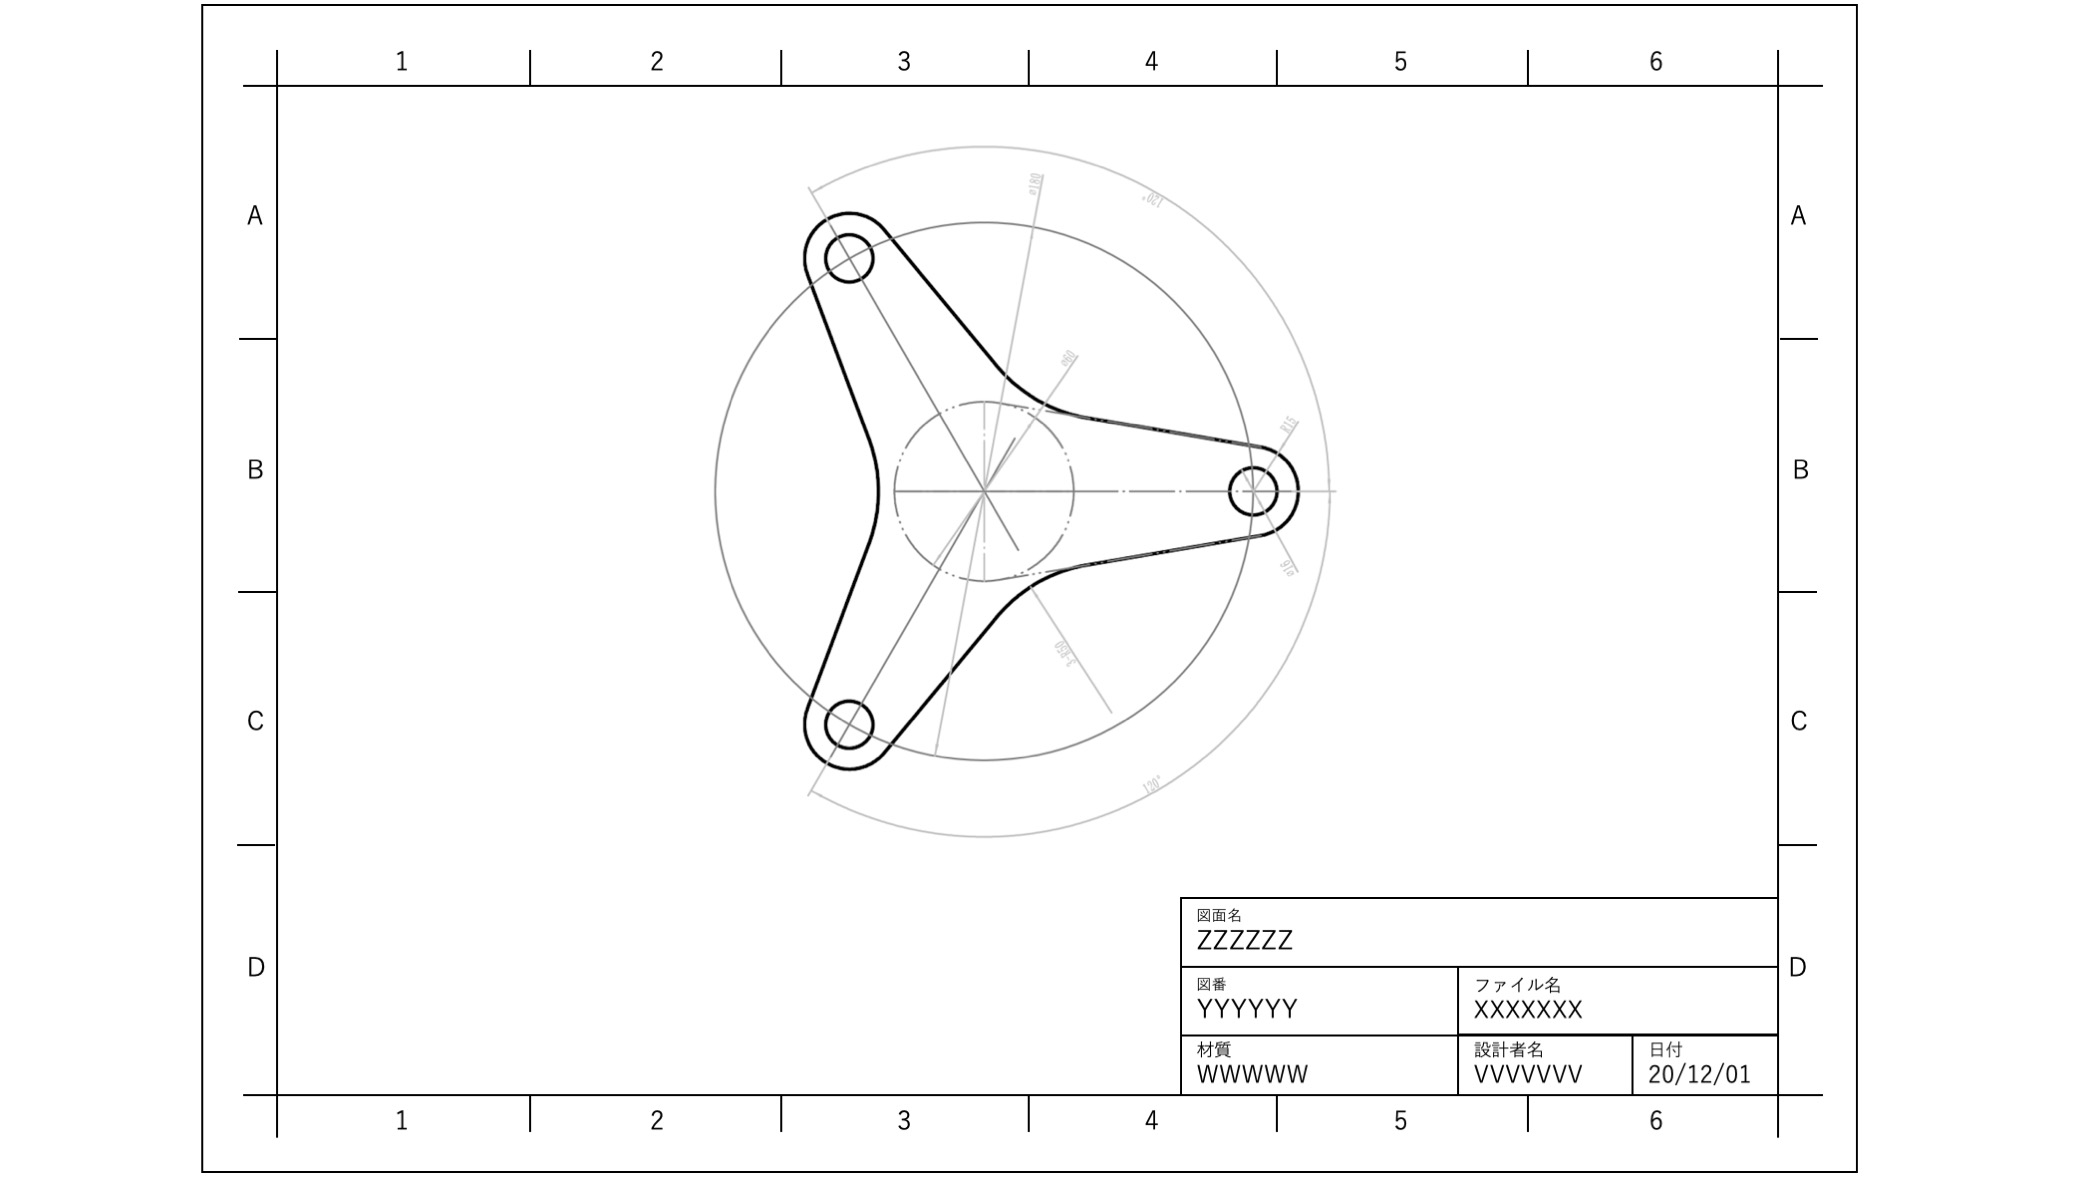circle: (816, 684, 886, 756), (1225, 454, 1284, 521), (819, 229, 880, 286)
